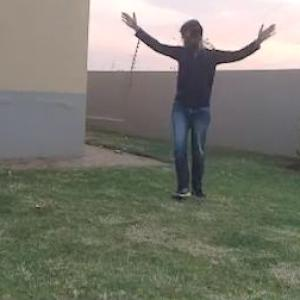takeoff: (118, 0, 286, 192)
